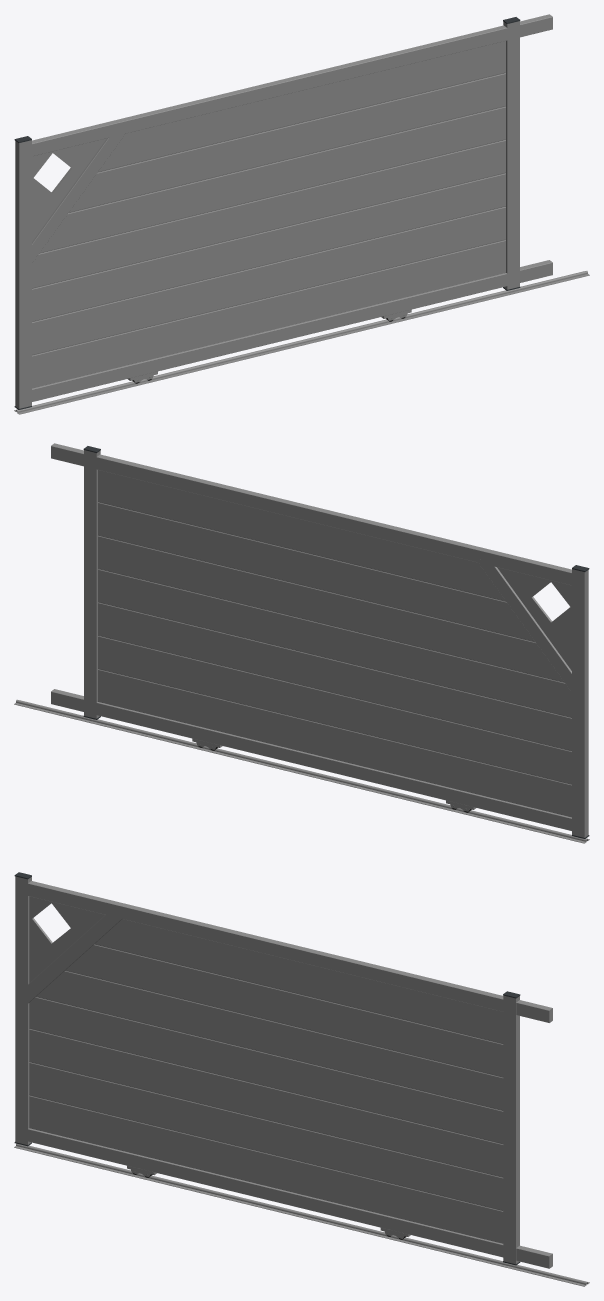
3 views of the same model, one above another, from view 1: azimuth 30°, elevation 25°; view 2: azimuth 150°, elevation 25°; view 3: azimuth 330°, elevation 25° (orthographic).
Parts seen in each view (by area): view 1: Shape107412936, Shape107412937, Shape107412935, Shape107412939, Pilar, Pilar001, Rail, losange001, Shape107412938; view 2: Shape107412936, Shape107412937, Shape107412935, Shape107412939, Pilar, Pilar001, Rail, losange001, Shape107412938; view 3: Shape107412936, Shape107412937, Shape107412935, Shape107412939, Pilar001, Pilar, Rail, losange001, Shape107412938.
Boxes of the visible parts, x1,y1,x2,y2 form: Shape107412936: (32, 41, 505, 354); Shape107412937: (32, 239, 505, 388); Shape107412935: (32, 14, 552, 156); Shape107412939: (32, 260, 552, 401); Pilar: (15, 140, 31, 408); Pilar001: (503, 21, 519, 289); Rail: (14, 271, 589, 414); losange001: (32, 138, 106, 241); Shape107412938: (32, 133, 125, 262); Shape107412936: (98, 470, 571, 783); Shape107412937: (98, 668, 571, 817); Shape107412935: (51, 443, 571, 585); Shape107412939: (51, 689, 571, 830); Pilar: (572, 569, 588, 837); Pilar001: (84, 450, 100, 718); Rail: (14, 699, 589, 843); losange001: (497, 567, 571, 670); Shape107412938: (475, 557, 571, 691); Shape107412936: (29, 919, 503, 1210); Shape107412937: (29, 1095, 503, 1243); Shape107412935: (28, 881, 552, 1022); Shape107412939: (28, 1128, 552, 1268); Pilar001: (503, 995, 519, 1264); Pilar: (15, 876, 31, 1144); Rail: (14, 1143, 589, 1286); losange001: (29, 896, 104, 982); Shape107412938: (28, 915, 121, 1003).
Bounding box in the file's own units: 3600 × 1640 × 60.02.
Materials: 5 (2 with a texture image).
